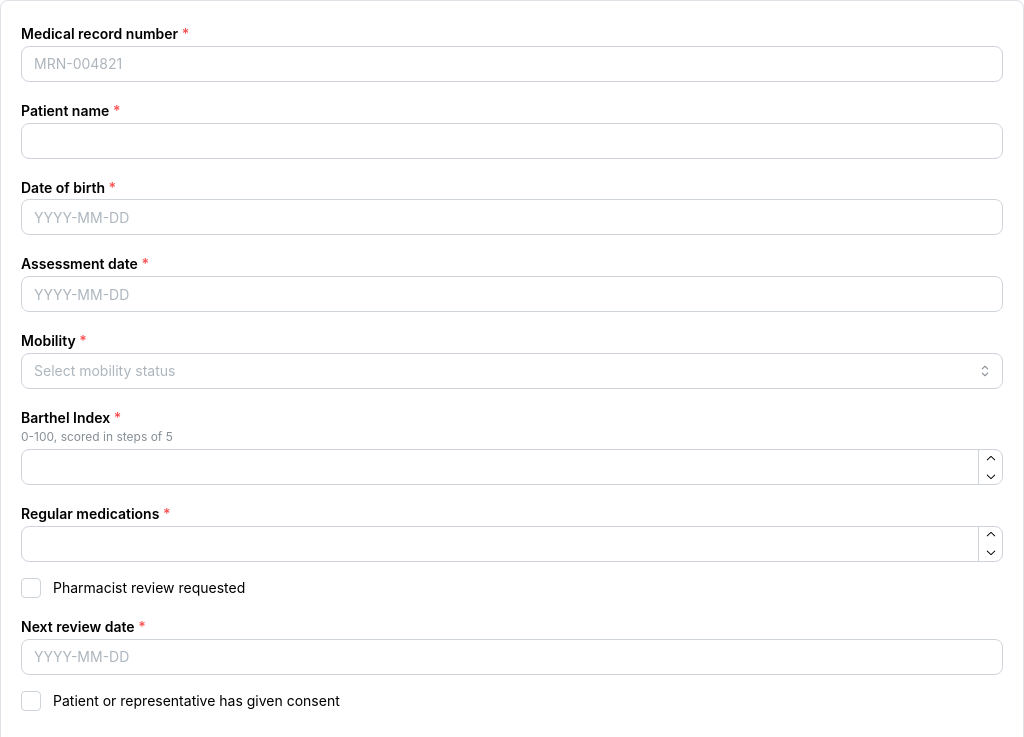
Test: AssessmentForm › rejects an out-of-range Barthel Index instead of clamping it on blur
Type "105" into the field labelled "Barthel Index *" at (512, 467), box 21,449 -> 1003,485
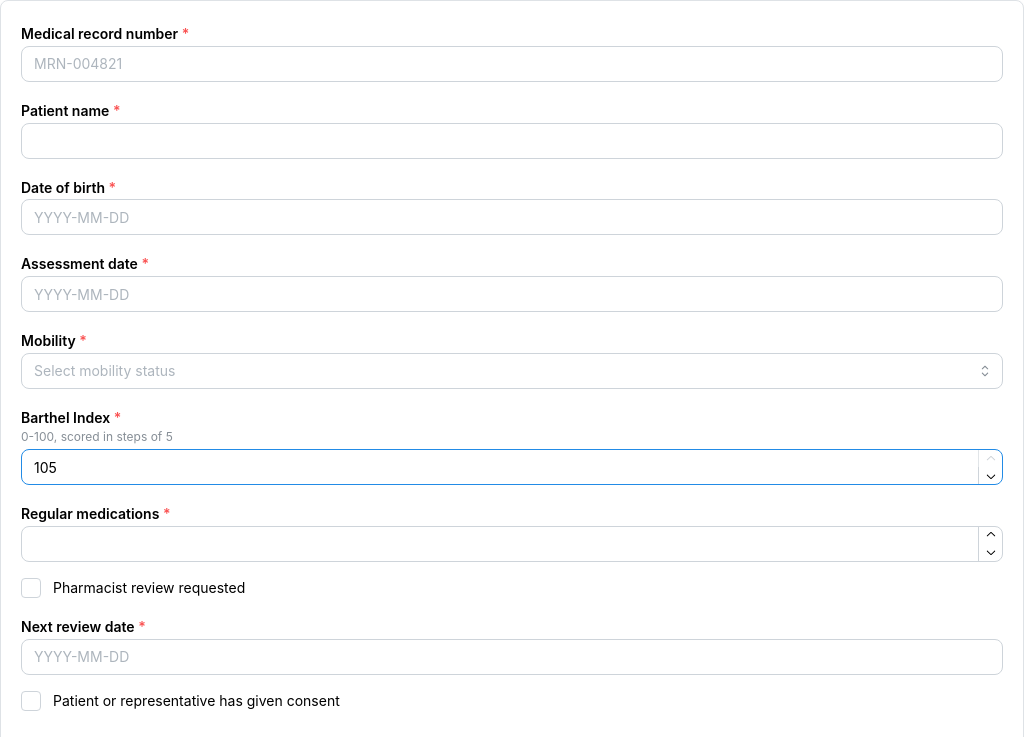
Press Tab
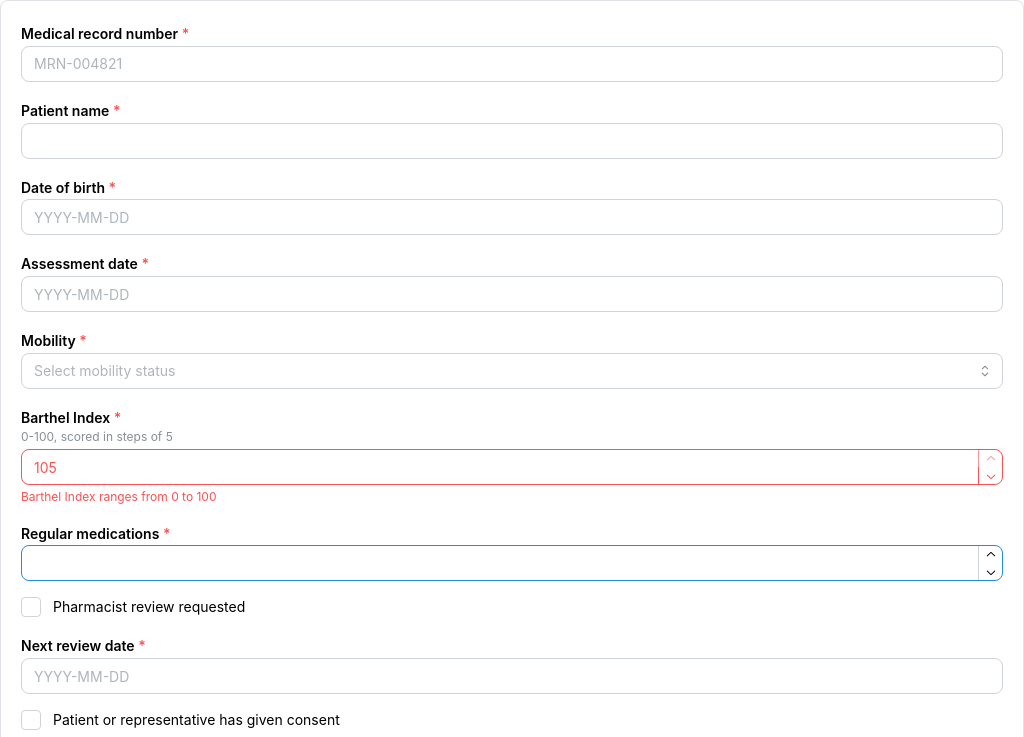
expect the text "Barthel Index ranges from 0 to 100" is shown: met, box 21,489 -> 216,504
